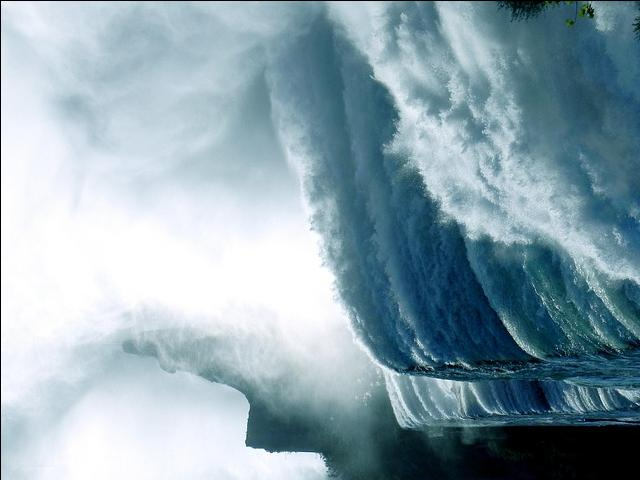Non_Gorille: (31, 32, 602, 460)
